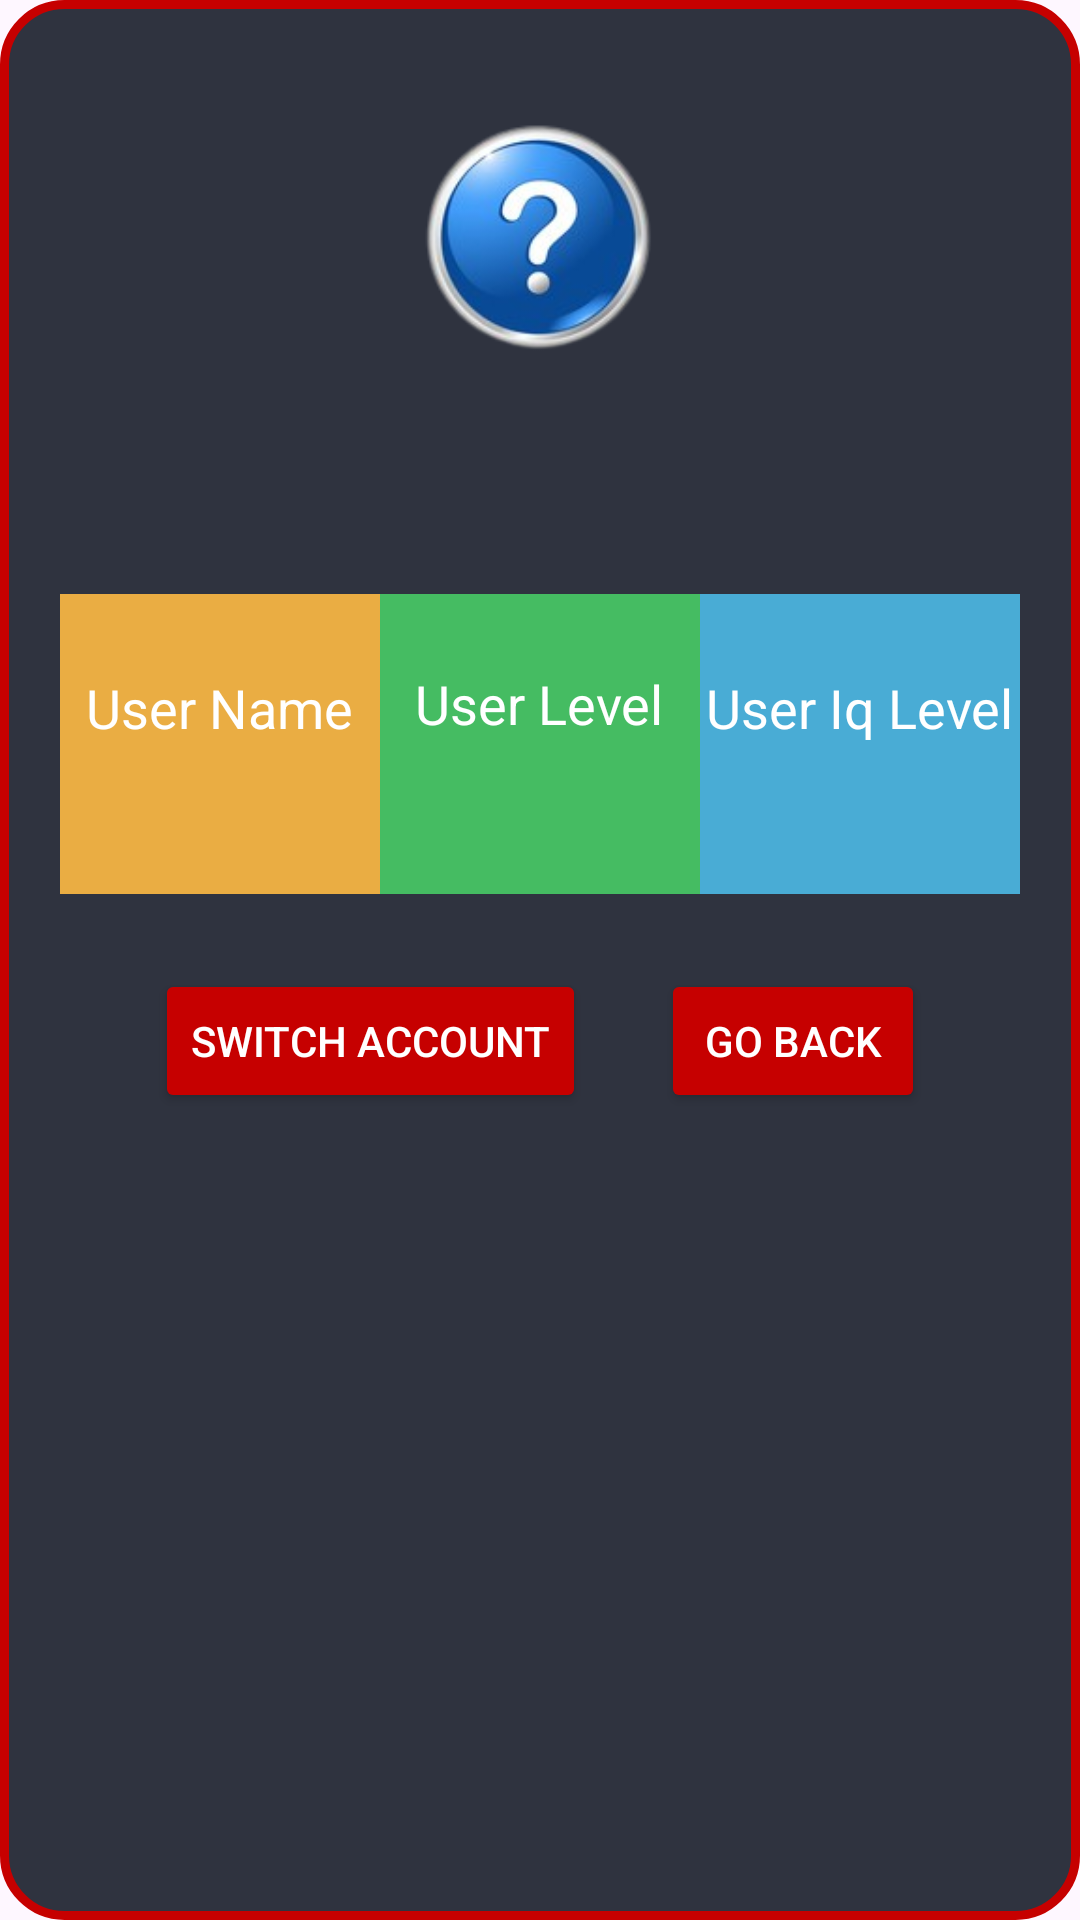

Where icons sit on this 1080×1920 app screen, as BBox(x1, y1, x2, y2):
question: BBox(427, 125, 650, 349)
